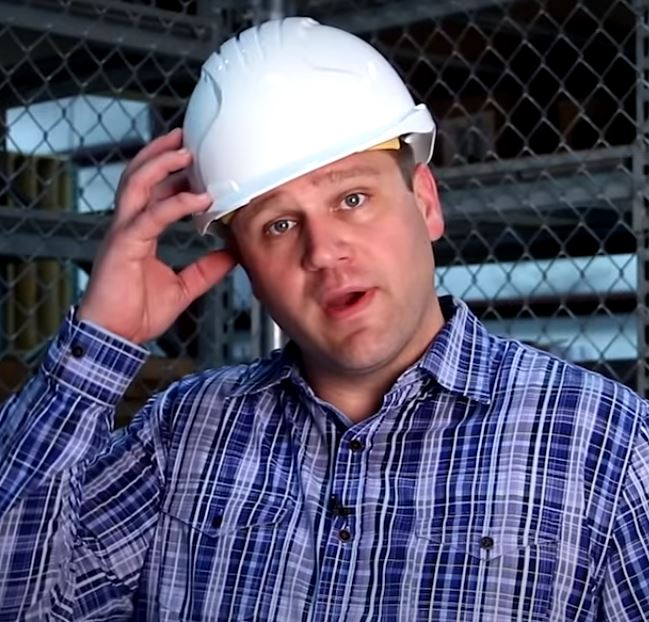Safety Helmet: (158, 10, 474, 374)
